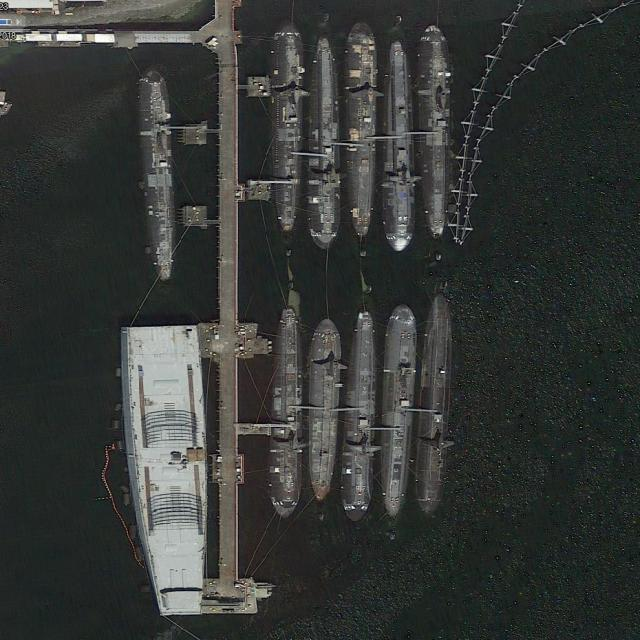Dock: (220, 6, 238, 579)
Submarine: (131, 68, 178, 279), (410, 290, 453, 515), (376, 299, 418, 516), (340, 308, 380, 526), (304, 316, 344, 503), (306, 35, 340, 246), (268, 24, 301, 235), (383, 39, 414, 255), (419, 22, 450, 238), (270, 303, 301, 519), (347, 20, 377, 235)
